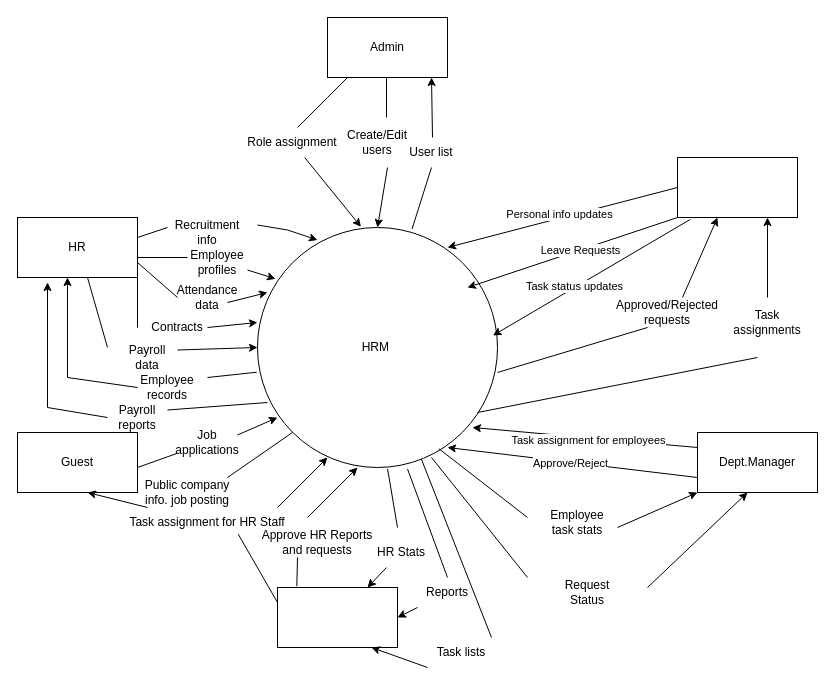
This 835x693 diagram has some shape labels left out. The shapes that lost their labels are listed below. From the top down, each one's centre as x and y in pixels, then its label:
At (x=737, y=187): "Employee".
At (x=337, y=617): "HR Manager".
